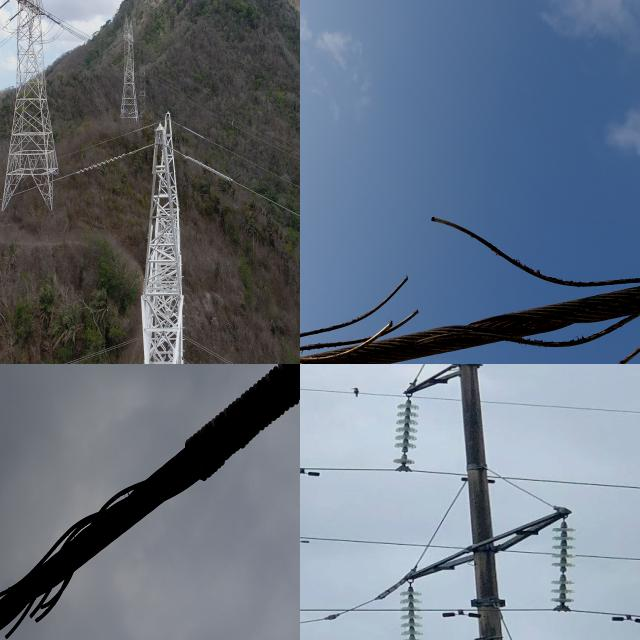杆塔: (394, 364, 571, 640), (145, 115, 202, 364), (0, 0, 66, 215), (118, 5, 142, 128)
正常绝缘子: (544, 517, 580, 611), (384, 391, 424, 468), (395, 582, 428, 640)
电缆破损: (0, 364, 300, 640), (300, 186, 640, 364)
绝缘子破损: (558, 568, 568, 577), (401, 448, 409, 456)
